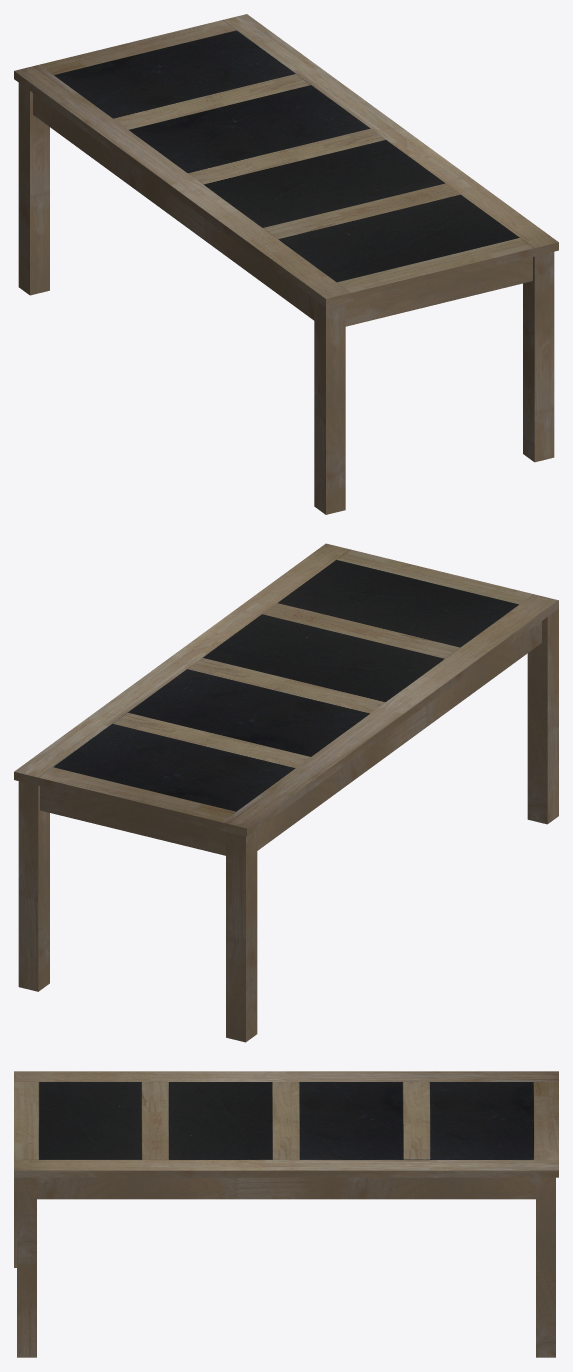
The model's file is Wooden_Table.fbx.
3 views of the same model, one above another, from view 1: azimuth 30°, elevation 25°; view 2: azimuth 150°, elevation 25°; view 3: azimuth 270°, elevation 25° (orthographic). The views are drawn at different scales.
Visible parts, largest first — view 1: Wood, Granite; view 2: Wood, Granite; view 3: Wood, Granite.
Boxes of the visible parts, bbox=[...] form: Wood: bbox=[14, 14, 558, 514]; Granite: bbox=[54, 30, 519, 282]; Wood: bbox=[14, 543, 558, 1042]; Granite: bbox=[54, 560, 518, 811]; Wood: bbox=[14, 1071, 558, 1357]; Granite: bbox=[39, 1082, 533, 1159].
Size of the model in its own units: 1.07 by 0.9497 by 2.49.
